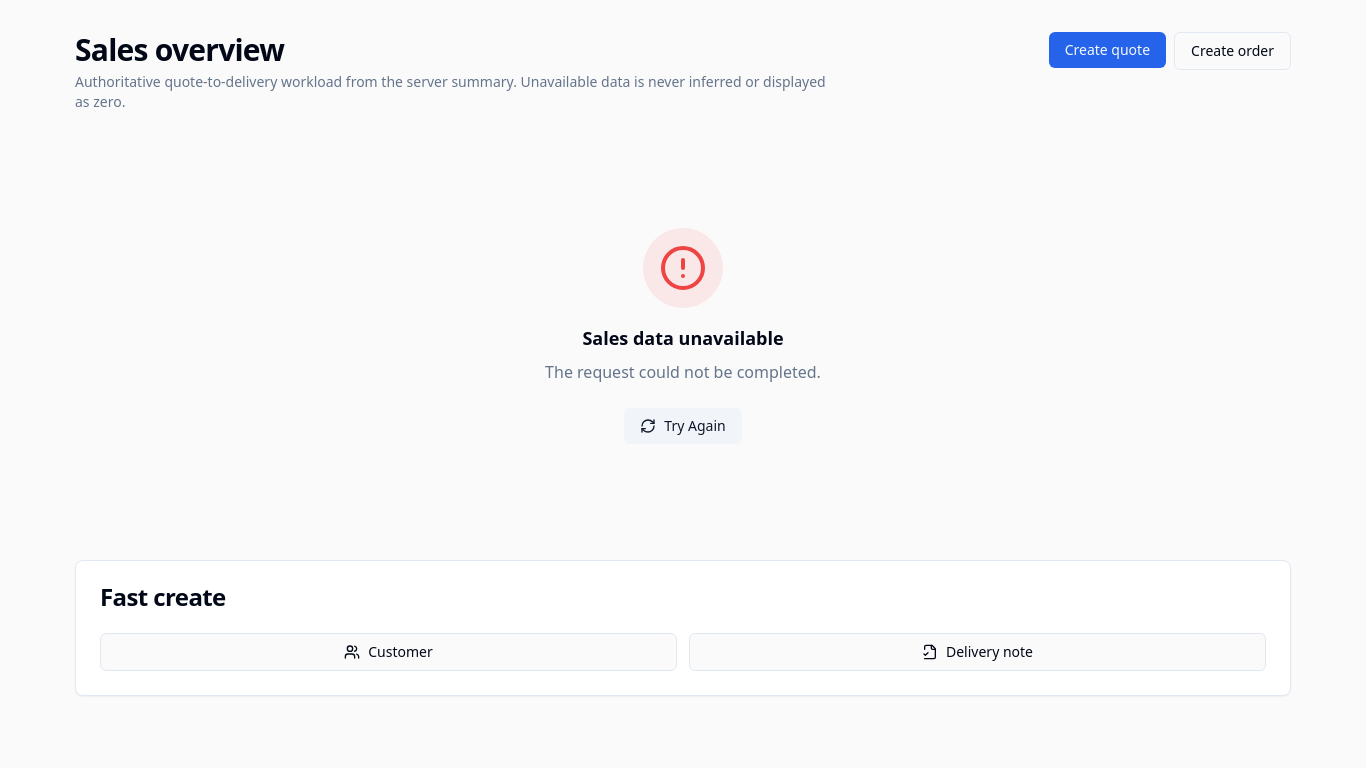
Test: SalesDashboardPage › fails closed and retries both dashboard queries when either governed response fails
The image size is (1366, 768).
Expected: the message shows "Sales data unavailable", [582, 326, 784, 350]
Step 1. Click the button "Try Again" → (683, 426), box [624, 408, 742, 444]
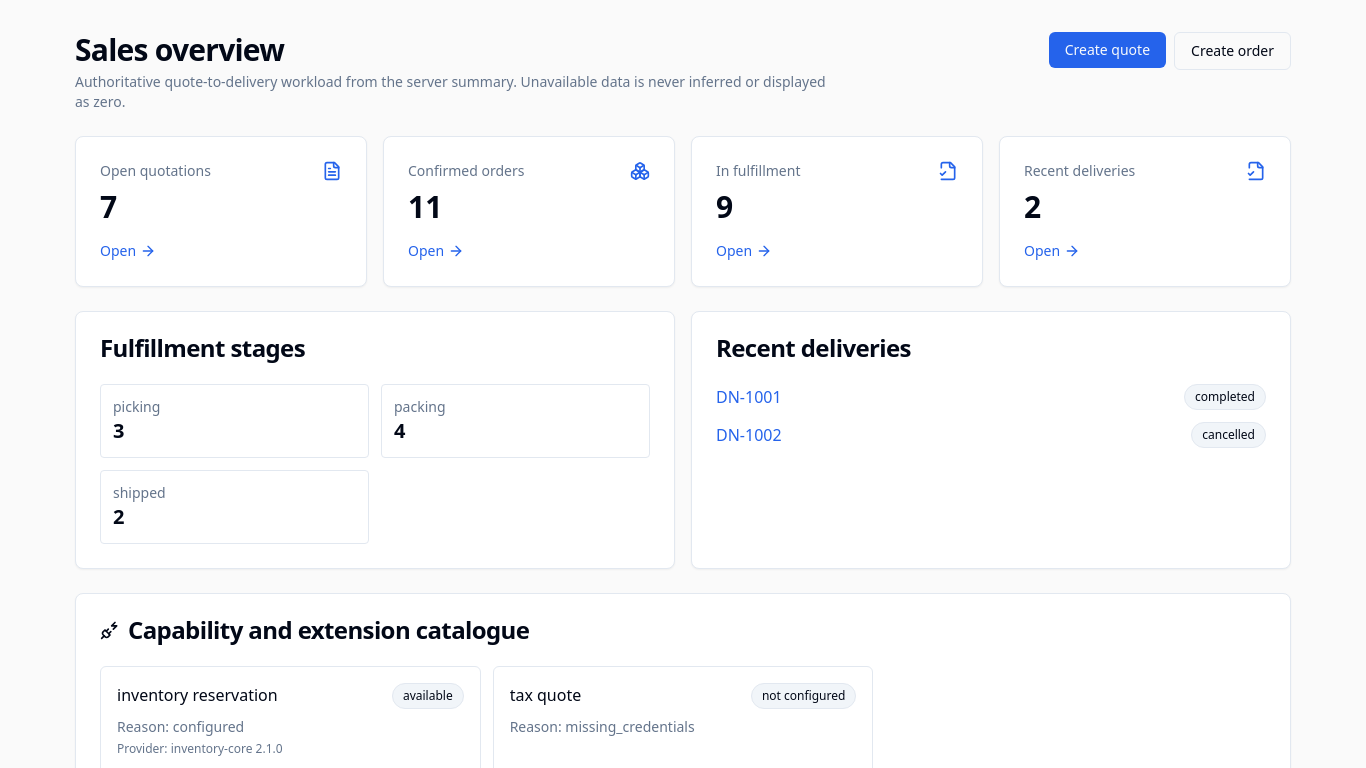
Now the text "Open quotations" is shown, box [100, 161, 211, 181]
